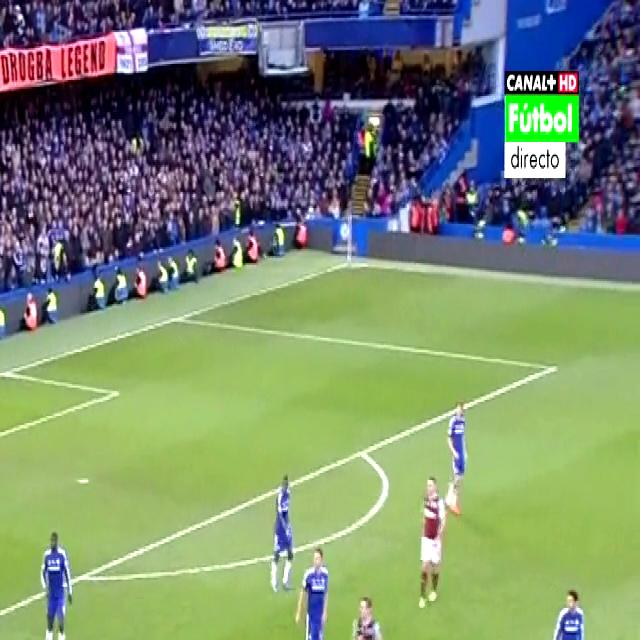soccer-player: (35, 514, 81, 640), (412, 464, 450, 616), (265, 459, 301, 595), (295, 533, 339, 640), (440, 387, 471, 518), (546, 574, 590, 640), (344, 590, 385, 640)
